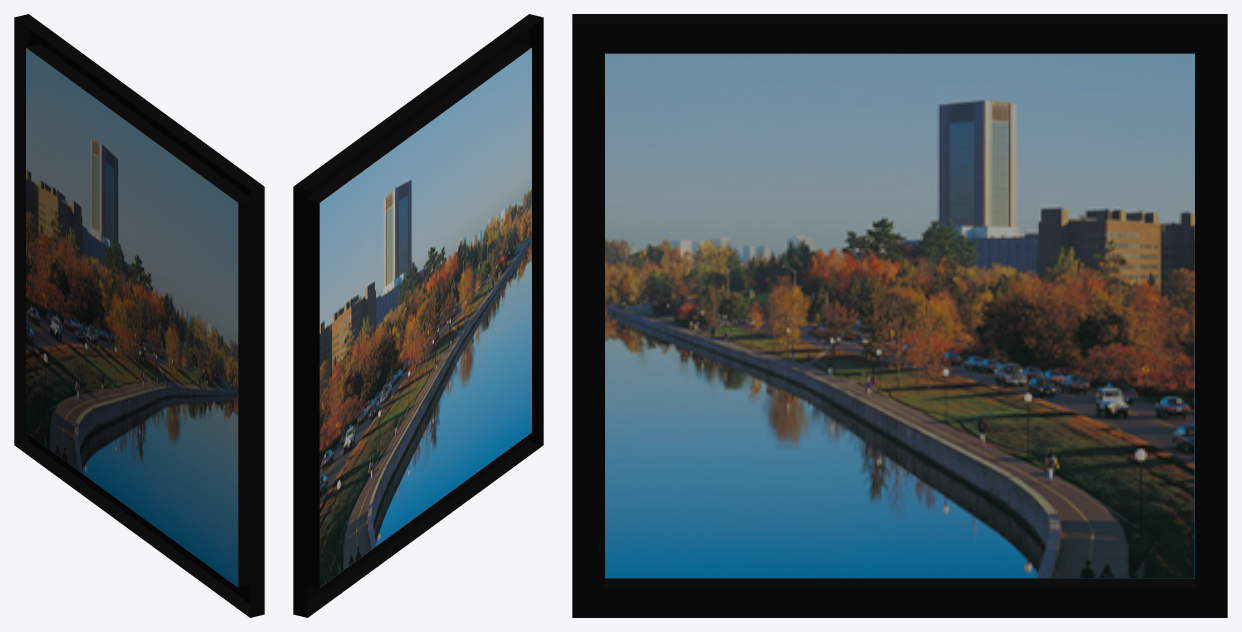
File: Picture1.glb
3 renders of one model, left to right at view 1: azimuth 30°, elevation 25°; view 2: azimuth 150°, elevation 25°; view 3: azimuth 270°, elevation 25°, orthographic. The views are drawn at different scales.
Visible parts, largest first — view 1: Picture1; view 2: Picture1; view 3: Picture1.
Part boxes in pixels (left/top/right/bottom): Picture1: left=14, top=14, right=264, bottom=617; Picture1: left=293, top=14, right=543, bottom=617; Picture1: left=572, top=14, right=1227, bottom=617.
Size of the model in its own units: 0.1 by 2.83 by 2.83.
Materials: 2 (2 with a texture image).
